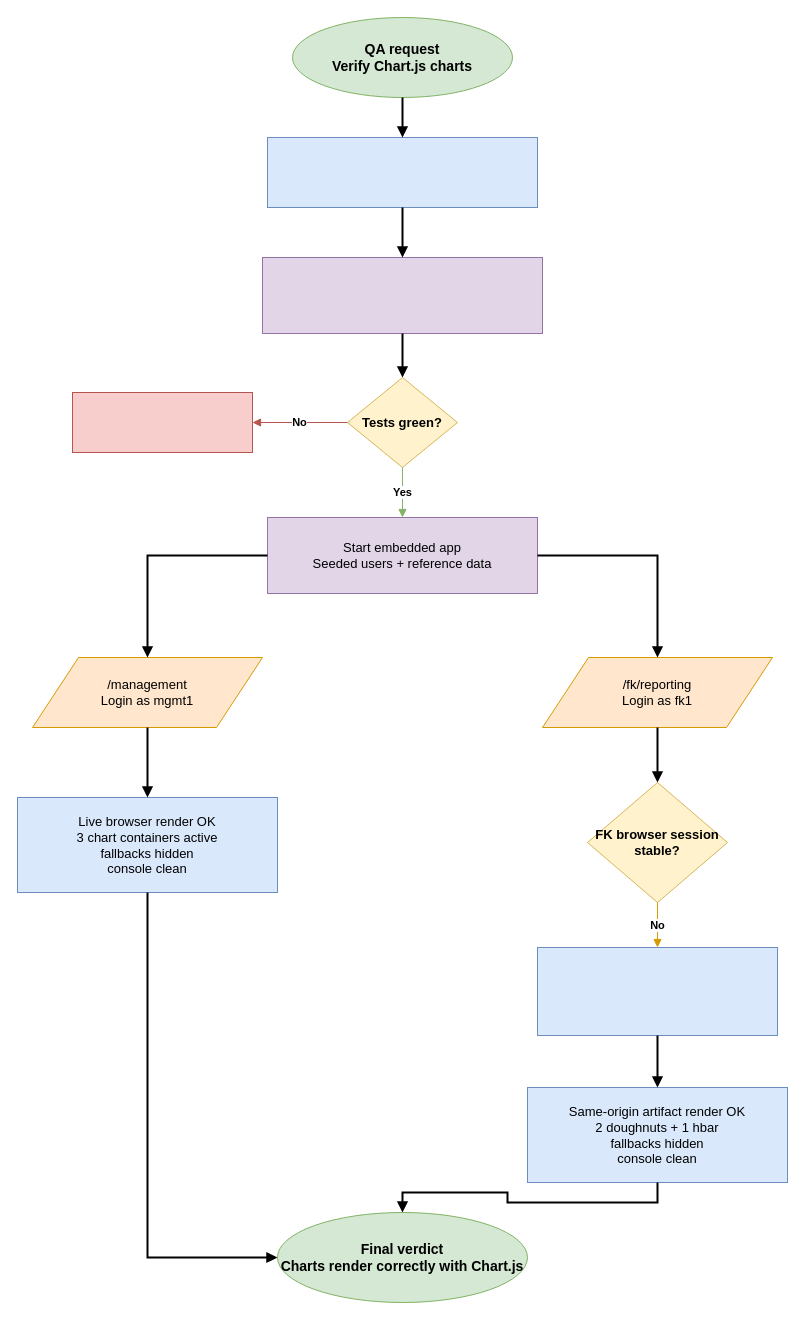
Some shapes in this 805 by 1320 pixel diagram are drawn without their labels. Each missing label, with the centre of its shape:
Authenticated curl HTML OK 200 + Chart.js scripts + JSON islands: the point at 657,991
Read QA plan Chart gates: Step 13 + Step 15: the point at 402,172
Run focused tests ChartJsonTest + SteuerungWebTest: the point at 402,295
Stop and fix test failure: the point at 162,422
